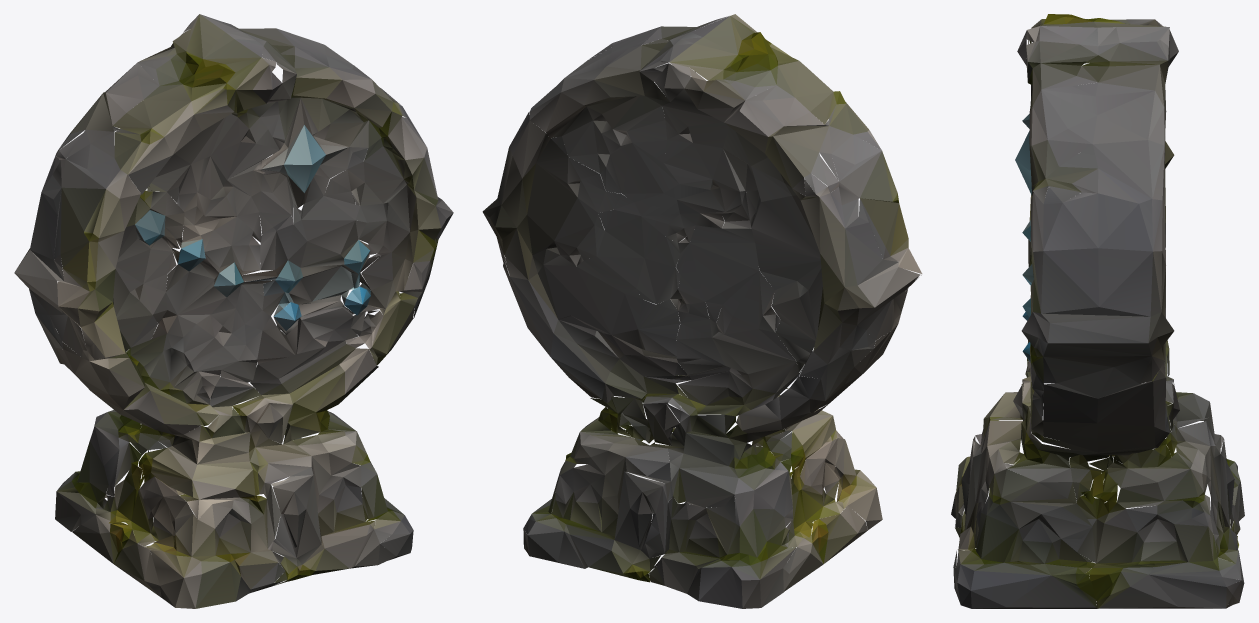
File: building-moonStarDisc.glb
3 renders of one model, left to right at view 1: azimuth 30°, elevation 25°; view 2: azimuth 150°, elevation 25°; view 3: azimuth 270°, elevation 25°, orthographic. The views are drawn at different scales.
Parts seen in each view (by area): view 1: 0_moonStarDisc; view 2: 0_moonStarDisc; view 3: 0_moonStarDisc.
Boxes of the visible parts, left/top/right/bottom form: 0_moonStarDisc: left=14, top=14, right=453, bottom=608; 0_moonStarDisc: left=482, top=14, right=922, bottom=608; 0_moonStarDisc: left=951, top=14, right=1244, bottom=608.
Size of the model in its own units: 0.5785 by 0.7 by 0.3551.
